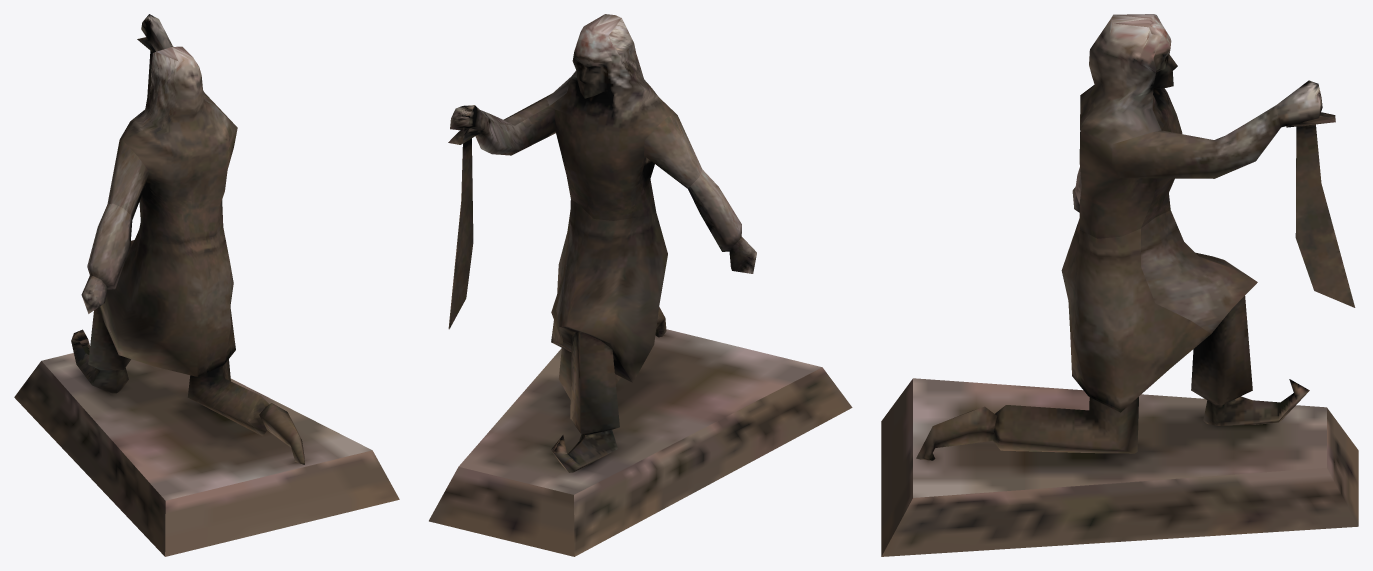
The model's file is arabic_statue.dae.
3 views of the same model, side by side, from view 1: azimuth 30°, elevation 25°; view 2: azimuth 150°, elevation 25°; view 3: azimuth 270°, elevation 25° (orthographic). The views are drawn at different scales.
Visible parts, largest first — view 1: polySurface5; view 2: polySurface5; view 3: polySurface5.
Part boxes in pixels (x1=…): polySurface5: x1=14, y1=14, x2=399, y2=556; polySurface5: x1=429, y1=14, x2=852, y2=556; polySurface5: x1=881, y1=14, x2=1358, y2=556.
Bounding box in the file's own units: 0.1785 × 0.2892 × 0.2651.
Materials: 1 (1 with a texture image).
